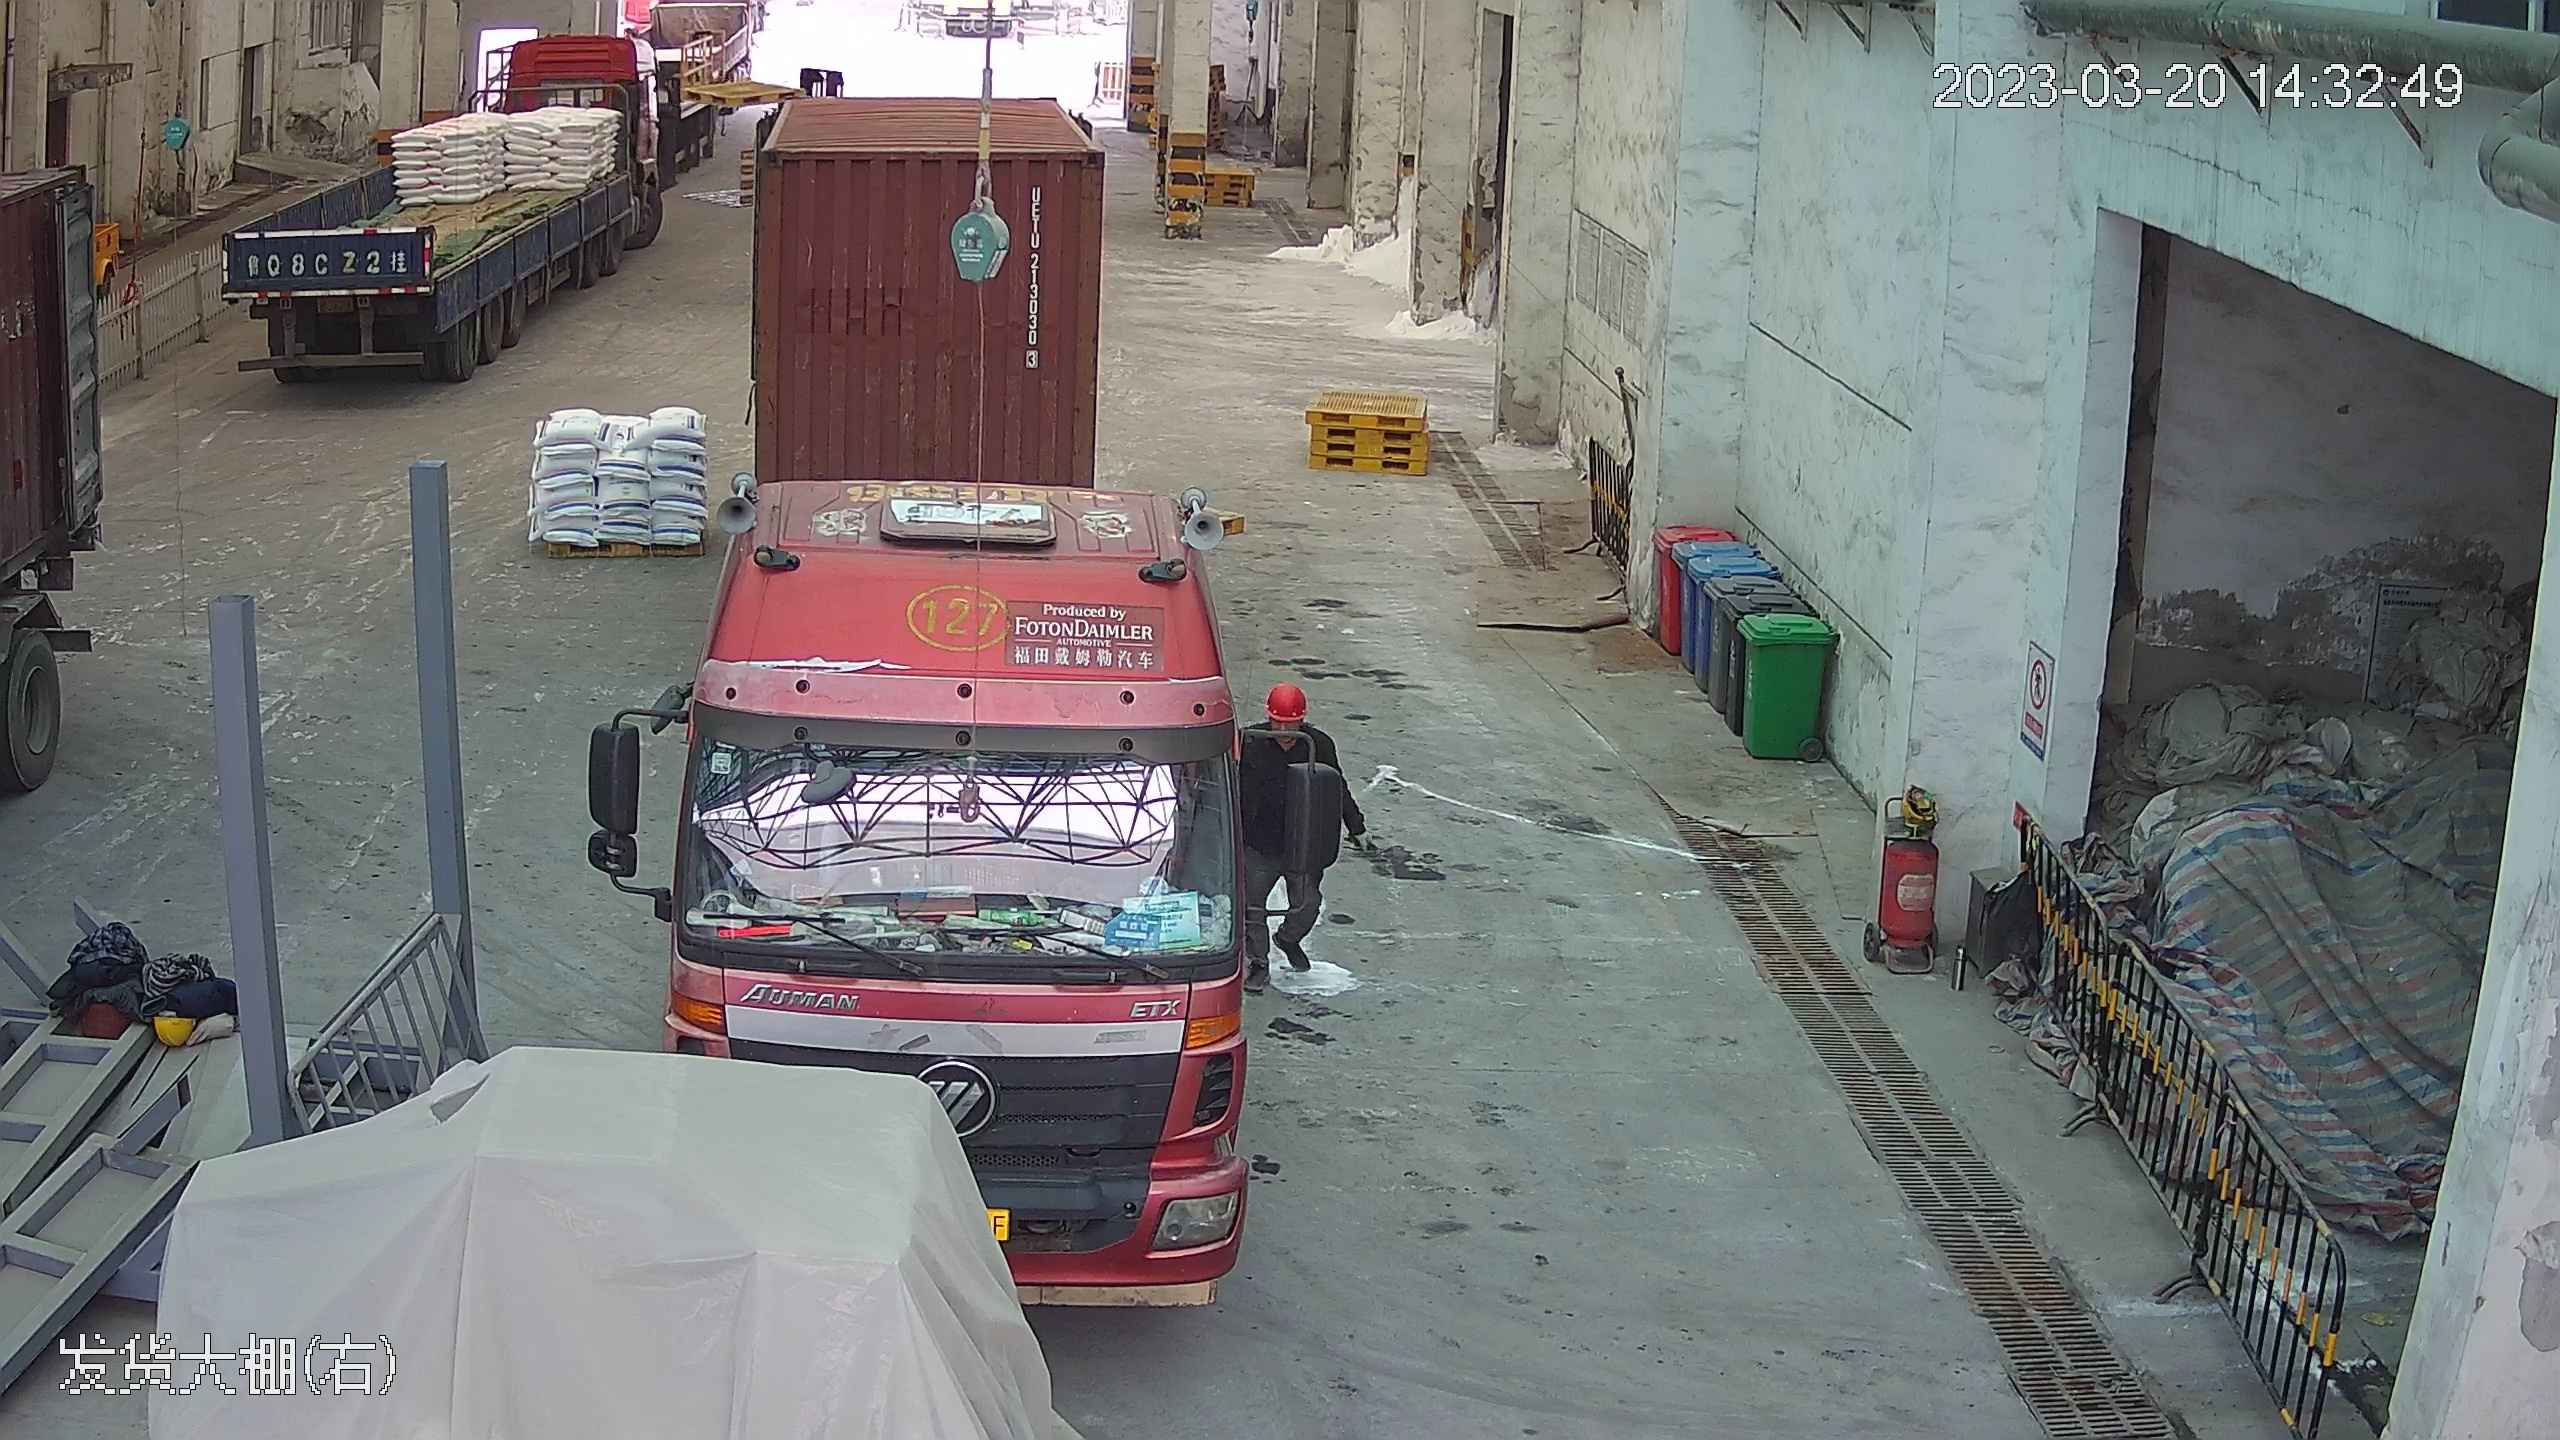head: (1242, 678, 1341, 783)
helmet: (1264, 678, 1310, 715)
people: (1240, 674, 1362, 983)
truck: (644, 29, 1241, 1278)
